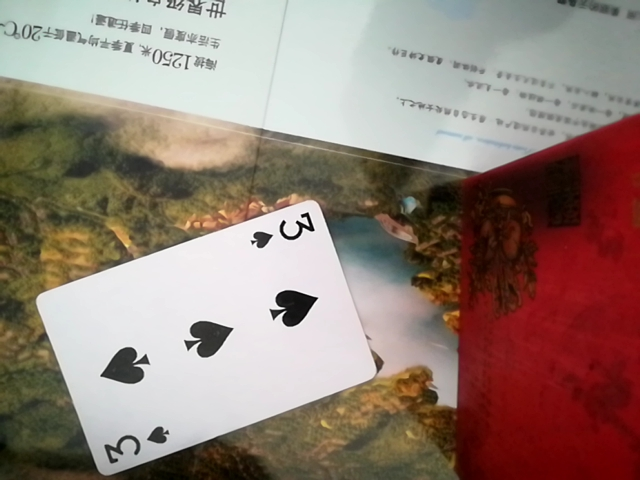ht 3: (32, 199, 383, 472)
